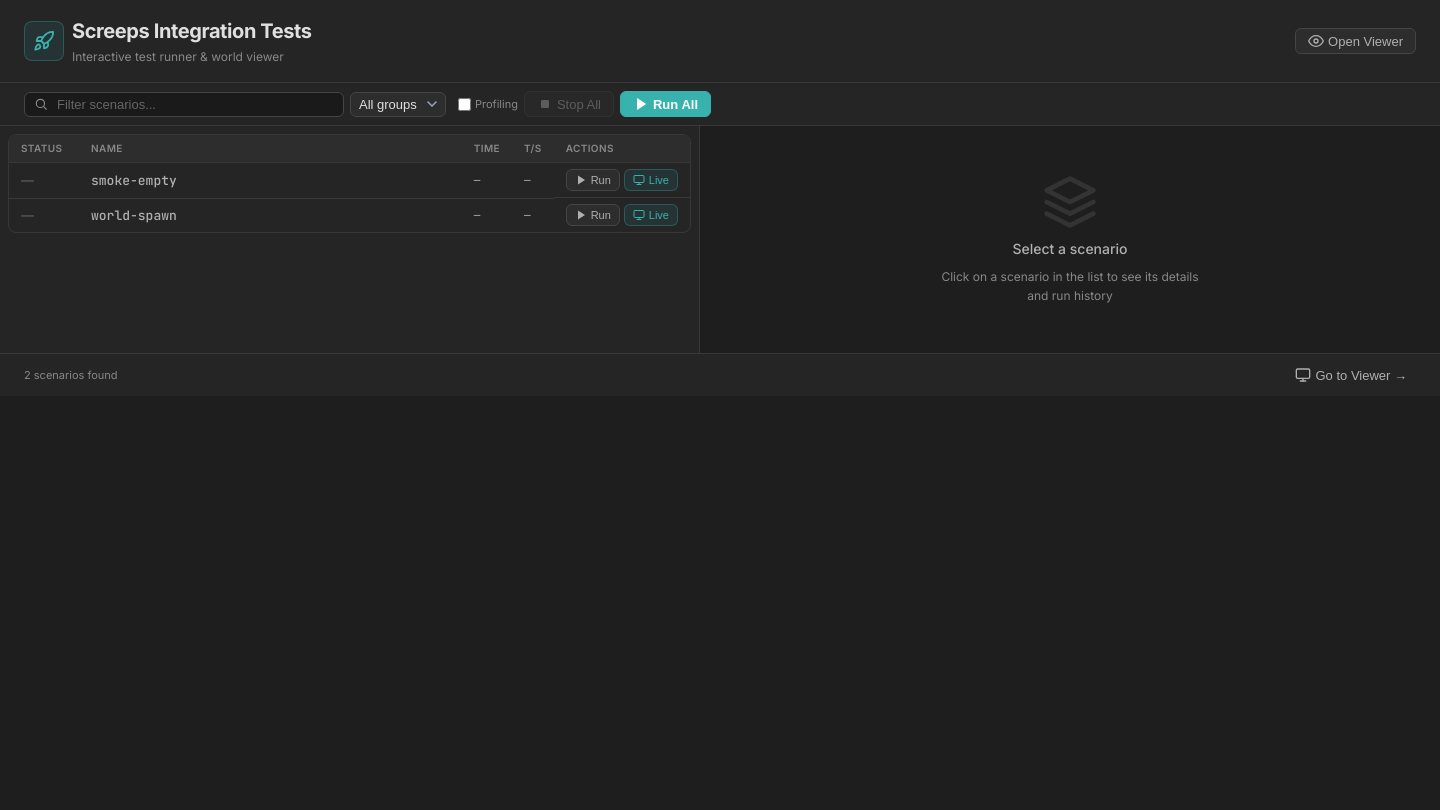
Test: ScenarioManager Snapshots tab › shows Main/Snapshots tabs when scenario selected
Expected: the button "Snapshots" is not shown
Click the text "smoke-empty" at (270, 180), box [79, 162, 462, 198]
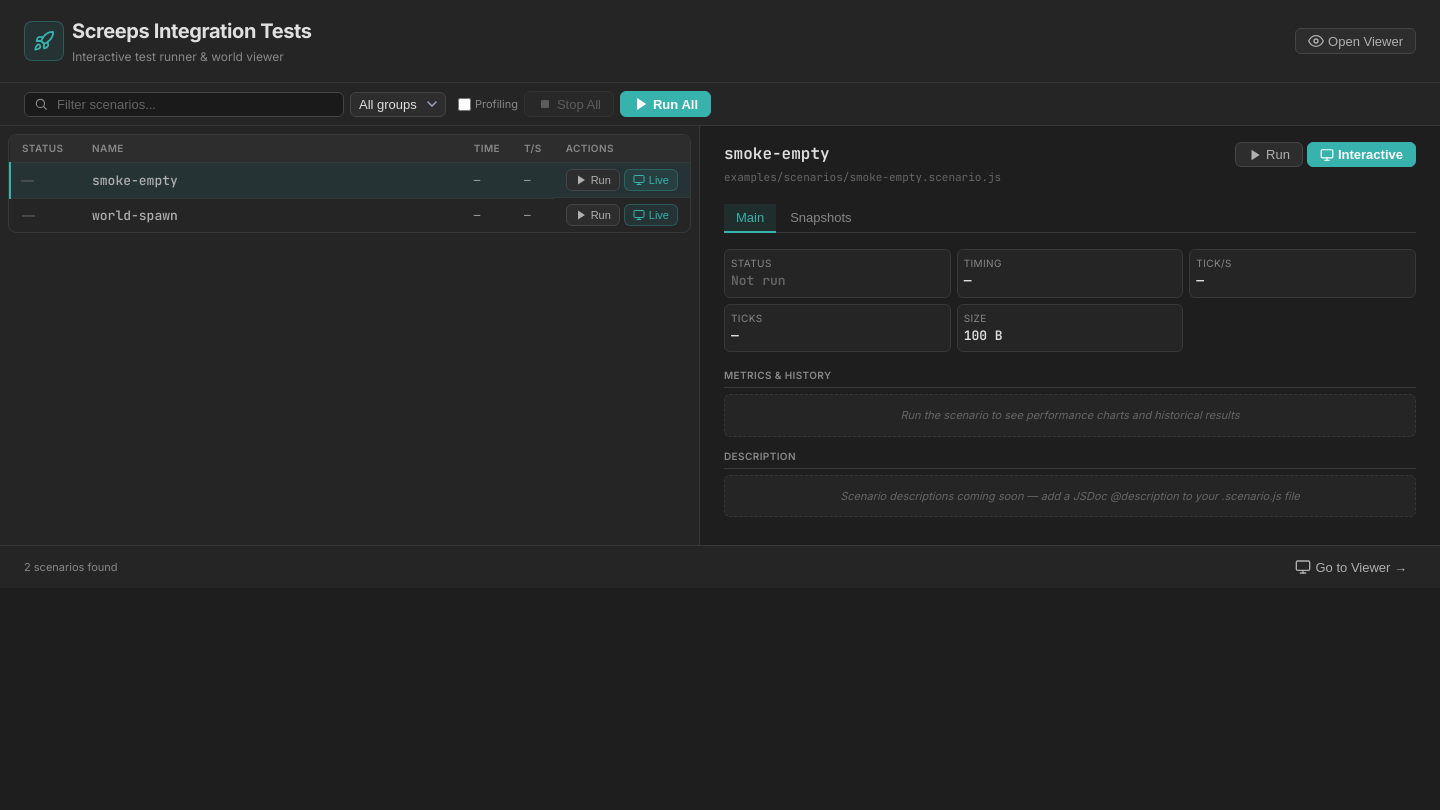
Expected: the button "Main" is shown, [724, 204, 776, 233]
Expected: the button "Snapshots" is shown, [778, 204, 864, 233]
